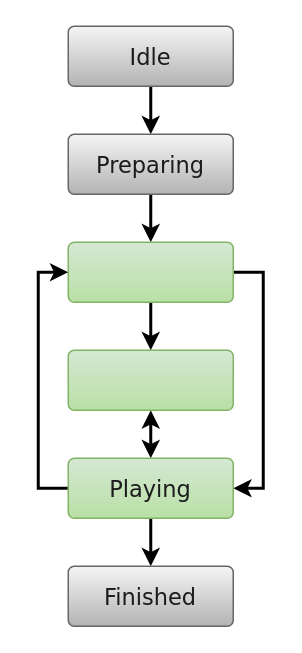
This 302x653 diagram has some shape labels left out. The shapes that lost their labels are listed below. From the top down, each one's centre as x and y in pixels, then its label:
the point at 150,271: Buffering
the point at 150,379: Pausing
